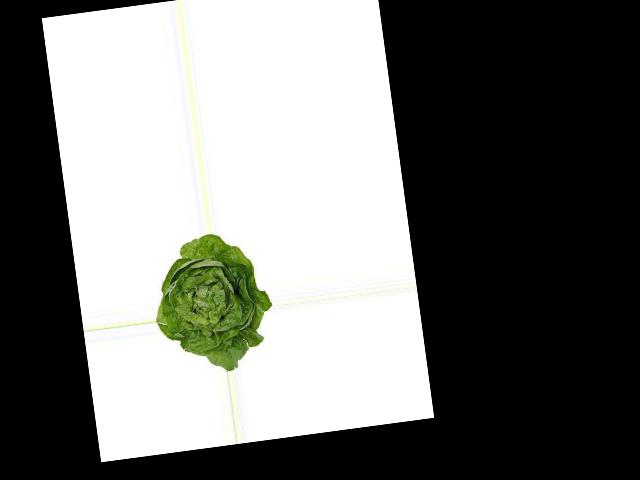lettuce: (151, 254, 258, 372)
